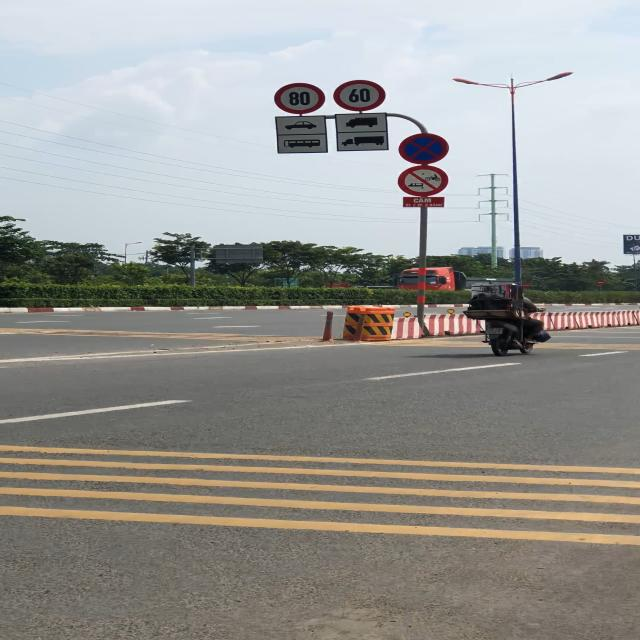Bien bao cam dung xe va do xe: (399, 133, 452, 165)
Bien bao toc do toi da cho phep: (332, 78, 388, 110), (273, 82, 326, 114)
